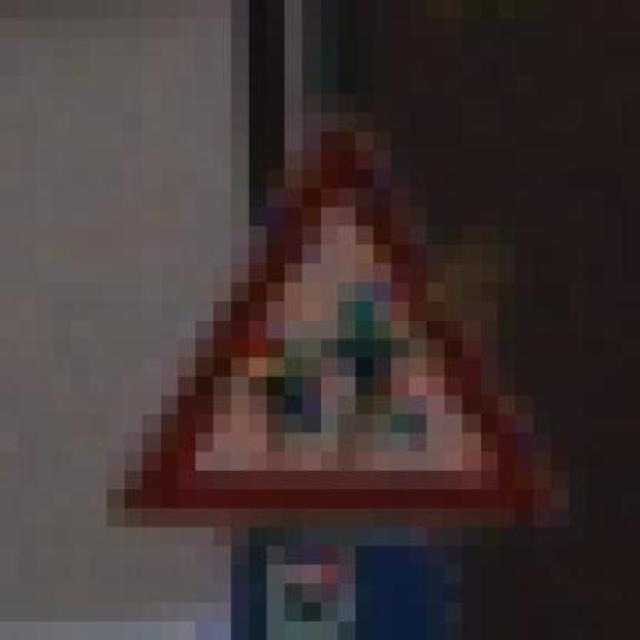Beware of children: (89, 112, 552, 546)
